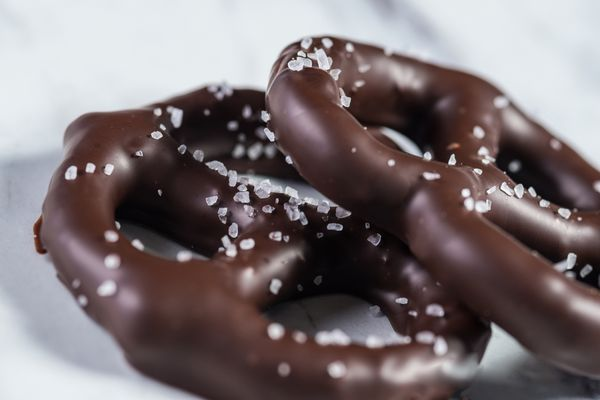salad: (29, 86, 496, 395), (264, 37, 600, 374)
